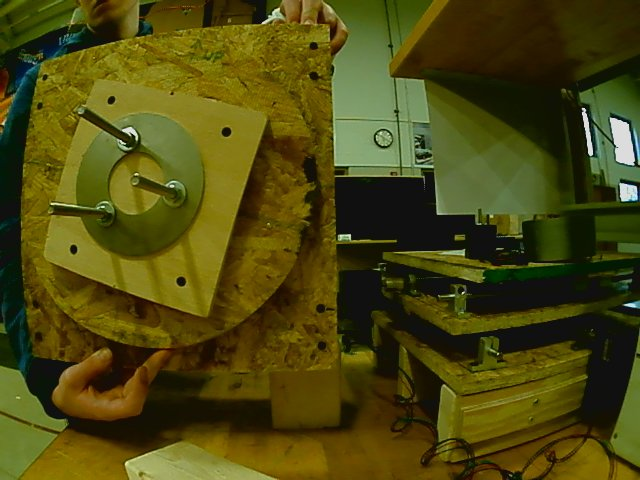bolt: (115, 124, 142, 154), (162, 179, 188, 209), (94, 200, 117, 230)
